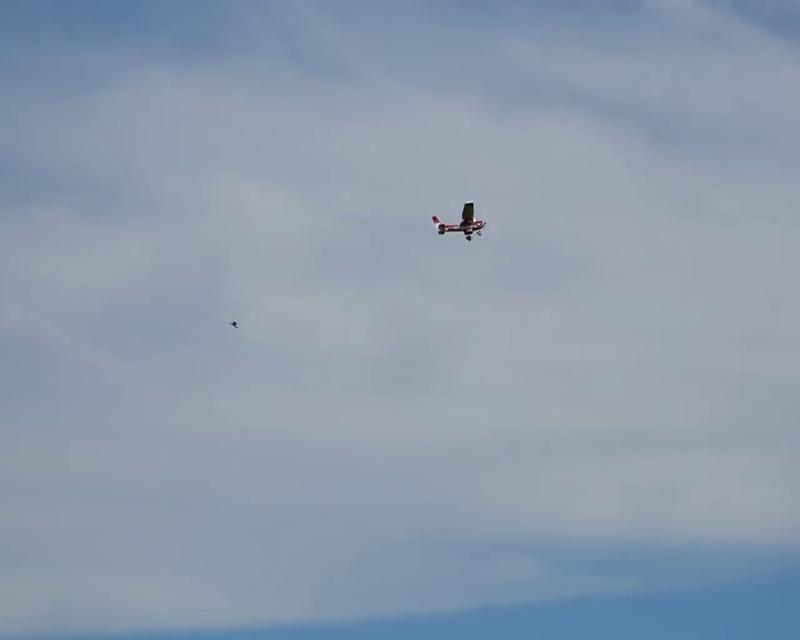UAV: (432, 200, 487, 242)
